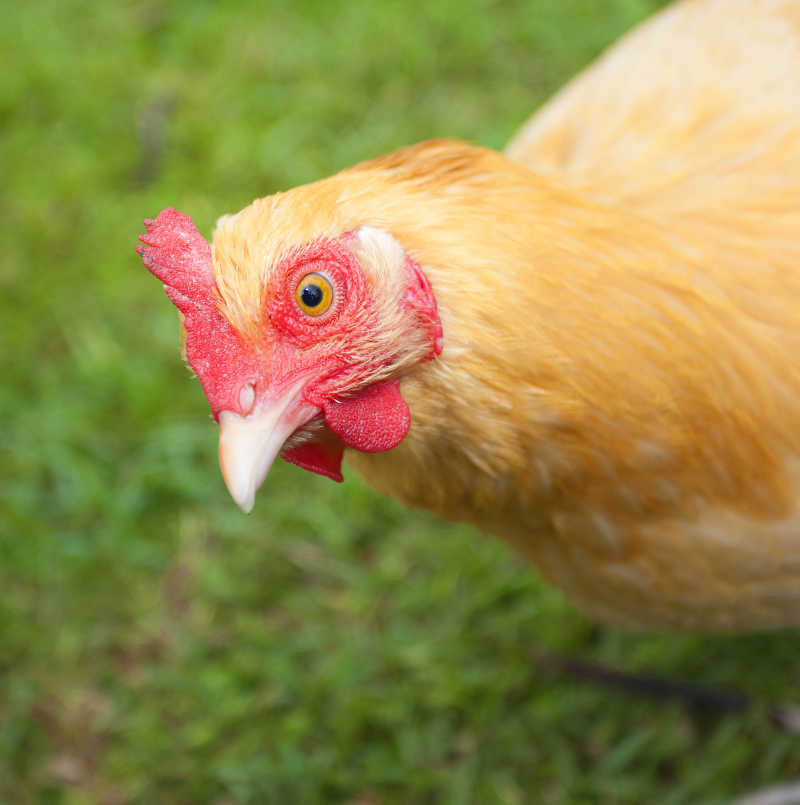chicken: (129, 3, 800, 658)
